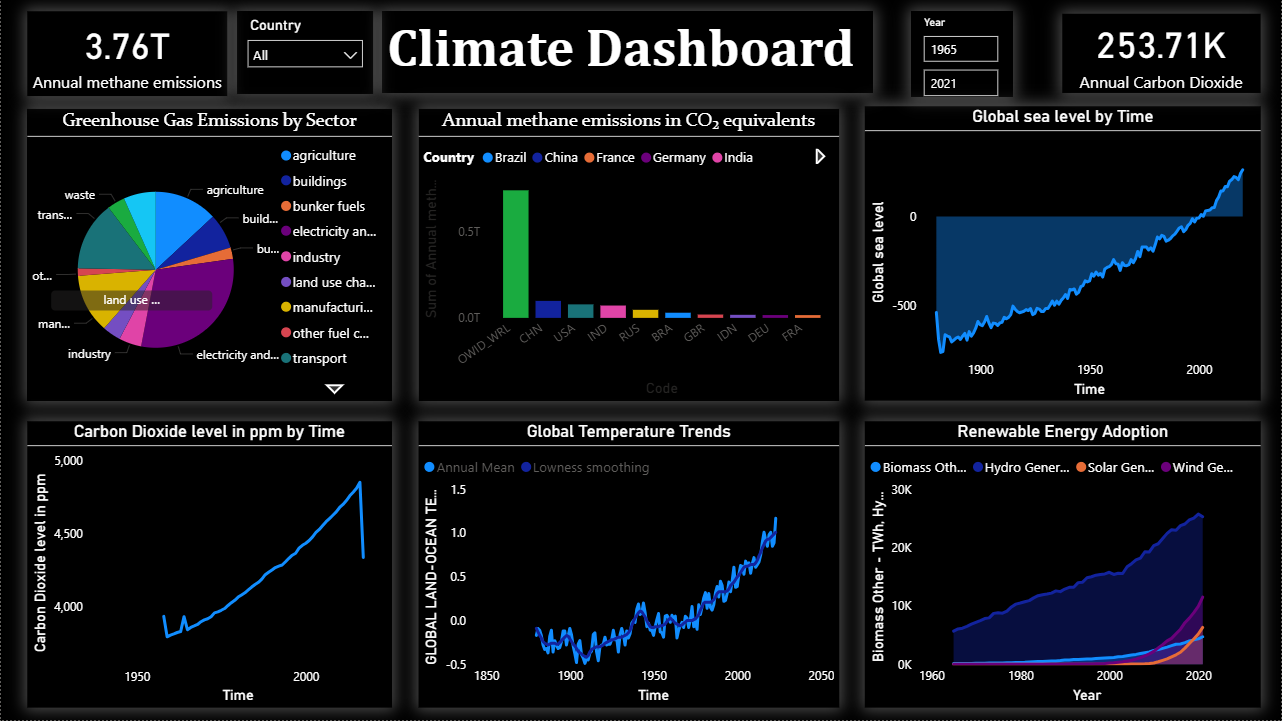

The page's visual inventory and layout, read from the dashboard file:
{"tool":"powerbi","page":{"name":"Page 1","canvas":[1280,720],"ordinal":0},"visuals":[{"type":"lineChart","fields":{"Category":["CO2_data.Year"],"Y":["Sum(CO2_data.Carbon_Dioxide)"]},"box":[25.7,420.7,364.4,286.1],"z":0},{"type":"lineChart","title":"Global Temperature Trends","fields":{"Category":["graph (2).Year"],"Y":["Sum(graph (2).No_smoothing)","Sum(graph (2).Lowess)"]},"box":[417,420.7,420.7,286.1],"z":1000},{"type":"pieChart","title":" Greenhouse Gas Emissions by Sector","fields":{"Y":["Sum(ghg-emissions-by-sector.Greenhouse gas emissions from agriculture)","Sum(ghg-emissions-by-sector.Greenhouse gas emissions from buildings)","Sum(ghg-emissions-by-sector.Greenhouse gas emissions from bunker fuels)","Sum(ghg-emissions-by-sector.Greenhouse gas emissions from electricity and heat)","Sum(ghg-emissions-by-sector.Greenhouse gas emissions from industry)","Sum(ghg-emissions-by-sector.Greenhouse gas emissions from land use change and forestry)","Sum(ghg-emissions-by-sector.Greenhouse gas emissions from manufacturing and construction)","Sum(ghg-emissions-by-sector.Greenhouse gas emissions from other fuel combustion)","Sum(ghg-emissions-by-sector.Greenhouse gas emissions from transport)","Sum(ghg-emissions-by-sector.Greenhouse gas emissions from waste)","Sum(ghg-emissions-by-sector.Fugitive emissions of greenhouse gases from energy production)"]},"box":[25.7,108.8,364.4,292.3],"z":2000},{"type":"areaChart","fields":{"Y":["Sum(sea-level.Global sea level as an average of Church and White (2011) and UHSLC data)"],"Category":["sea-level.Day.1"]},"box":[863.3,106.4,396.2,294.7],"z":3000},{"type":"areaChart","title":"Renewable Energy Adoption","fields":{"Y":["Sum(02 modern-renewable-energy-consumption.Geo Biomass Other - TWh)","Sum(02 modern-renewable-energy-consumption.Hydro Generation - TWh)","Sum(02 modern-renewable-energy-consumption.Solar Generation - TWh)","Sum(02 modern-renewable-energy-consumption.Wind Generation - TWh)"],"Category":["02 modern-renewable-energy-consumption.Year"]},"box":[863.3,420.7,396.2,286.1],"z":4000},{"type":"columnChart","title":"Annual methane emissions in CO₂ equivalents","fields":{"Category":["methane-emissions (2).Code"],"Y":["Sum(methane-emissions (2).Annual methane emissions in CO₂ equivalents)"],"Series":["methane-emissions (2).Entity"]},"box":[417,108.8,420.7,292.3],"z":5000},{"type":"card","fields":{"Values":["Sum(methane-emissions.Annual methane emissions in CO₂ equivalents)"]},"box":[26.1,11,200.3,85.1],"z":6000},{"type":"card","fields":{"Values":["Sum(CO2_data.Carbon_Dioxide)"]},"box":[1061.4,13.5,198.1,79.5],"z":7000},{"type":"textbox","box":[381.5,11,491.6,81.9],"z":8000},{"type":"slicer","fields":{"Values":["ghg-emissions-by-sector.Entity"]},"box":[236,11,135.8,82.3],"z":9000},{"type":"slicer","fields":{"Values":["01 renewable-share-energy.Year"]},"box":[909.8,11,101.5,85.6],"z":10000}]}

Visuals, with their boxes in screenshot pixels (x1, y1, x2, y2), scaled from the page's 1280x720 canvas onto the 1282x721 screenshot:
lineChart - CO2_data.Year x Sum(CO2_data.Carbon_Dioxide): [26,421,391,708]
"Global Temperature Trends" lineChart: [418,421,839,708]
" Greenhouse Gas Emissions by Sector" pieChart: [26,109,391,402]
areaChart - Sum(sea-level.Global sea level as an average of Church and White (2011) and UHSLC data) x sea-level.Day.1: [865,107,1261,402]
"Renewable Energy Adoption" areaChart: [865,421,1261,708]
"Annual methane emissions in CO₂ equivalents" columnChart: [418,109,839,402]
card - Sum(methane-emissions.Annual methane emissions in CO₂ equivalents): [26,11,227,96]
card - Sum(CO2_data.Carbon_Dioxide): [1063,14,1261,93]
textbox: [382,11,874,93]
slicer - ghg-emissions-by-sector.Entity: [236,11,372,93]
slicer - 01 renewable-share-energy.Year: [911,11,1013,97]
